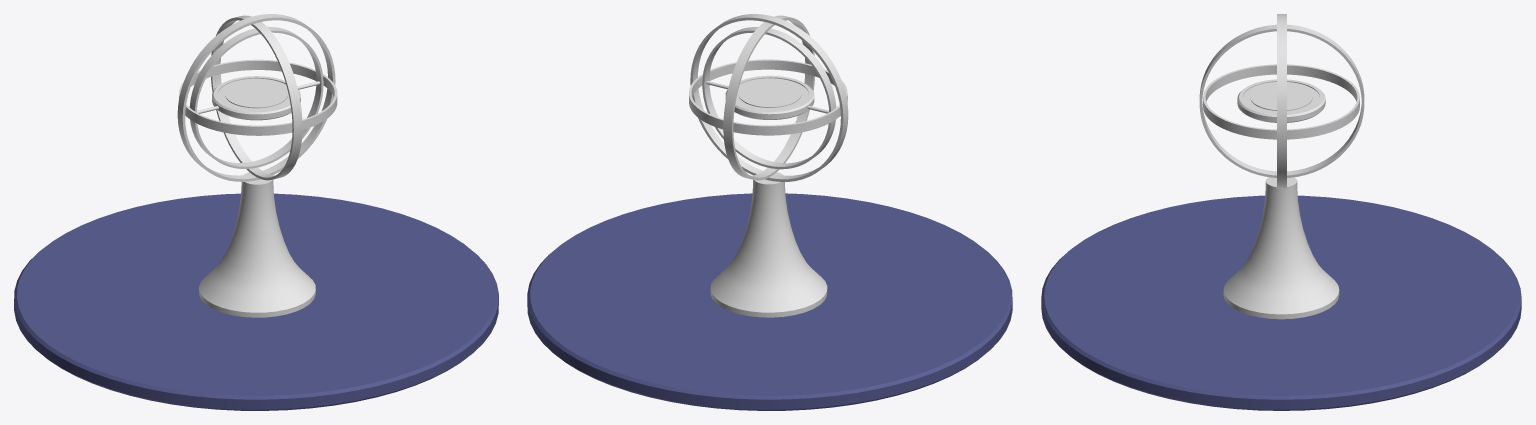
The model's file is gyro.glb.
The picture shows the model from 3 angles, left to right: view 1: azimuth 30°, elevation 25°; view 2: azimuth 150°, elevation 25°; view 3: azimuth 270°, elevation 25°; orthographic projection.
Visible parts, largest first — view 1: table, base, ring_outer, plate, ring_y, ring_z, ring_x; view 2: table, base, ring_outer, plate, ring_y, ring_z, ring_x; view 3: table, base, ring_y, ring_z, plate, ring_outer.
Part boxes in pixels (x1,y1,x2,y2): table: (14, 193, 498, 410); base: (199, 172, 315, 317); ring_outer: (177, 14, 335, 181); plate: (212, 76, 300, 120); ring_y: (179, 59, 337, 135); ring_z: (211, 15, 302, 180); ring_x: (189, 26, 323, 168); table: (527, 193, 1012, 410); base: (710, 172, 827, 317); ring_outer: (690, 14, 848, 181); plate: (725, 75, 814, 119); ring_y: (689, 59, 847, 135); ring_z: (723, 15, 814, 180); ring_x: (702, 26, 836, 169); table: (1041, 195, 1521, 410); base: (1223, 177, 1339, 319); ring_y: (1203, 64, 1359, 139); ring_z: (1199, 24, 1364, 177); plate: (1237, 79, 1325, 122); ring_outer: (1277, 14, 1286, 188).
Size of the model in its own units: 3.87 by 2.56 by 3.87.
